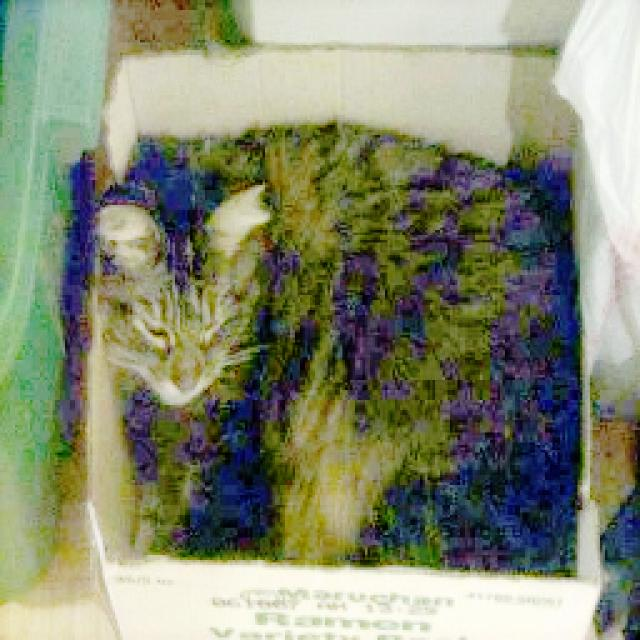cat: (96, 118, 586, 583)
